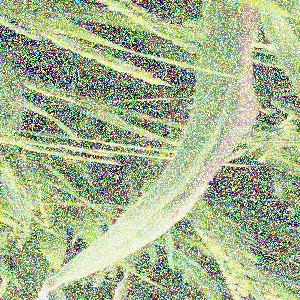Leaf_Blast: (196, 3, 261, 167)
